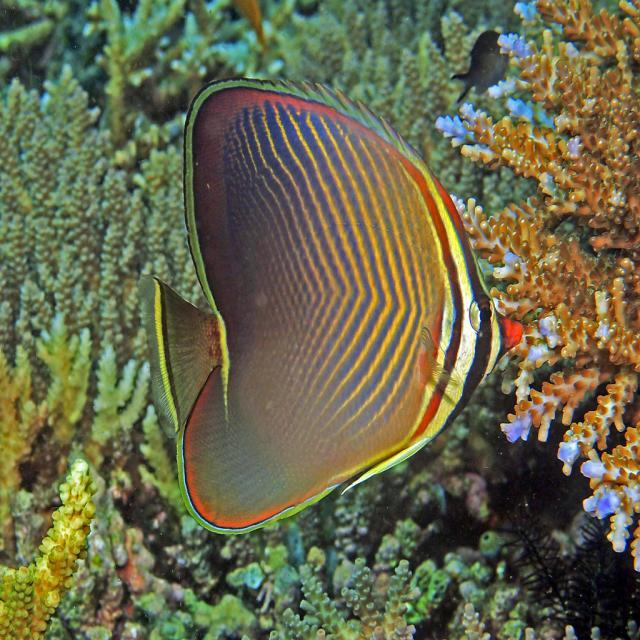ButterflyFish: (133, 76, 540, 533)
